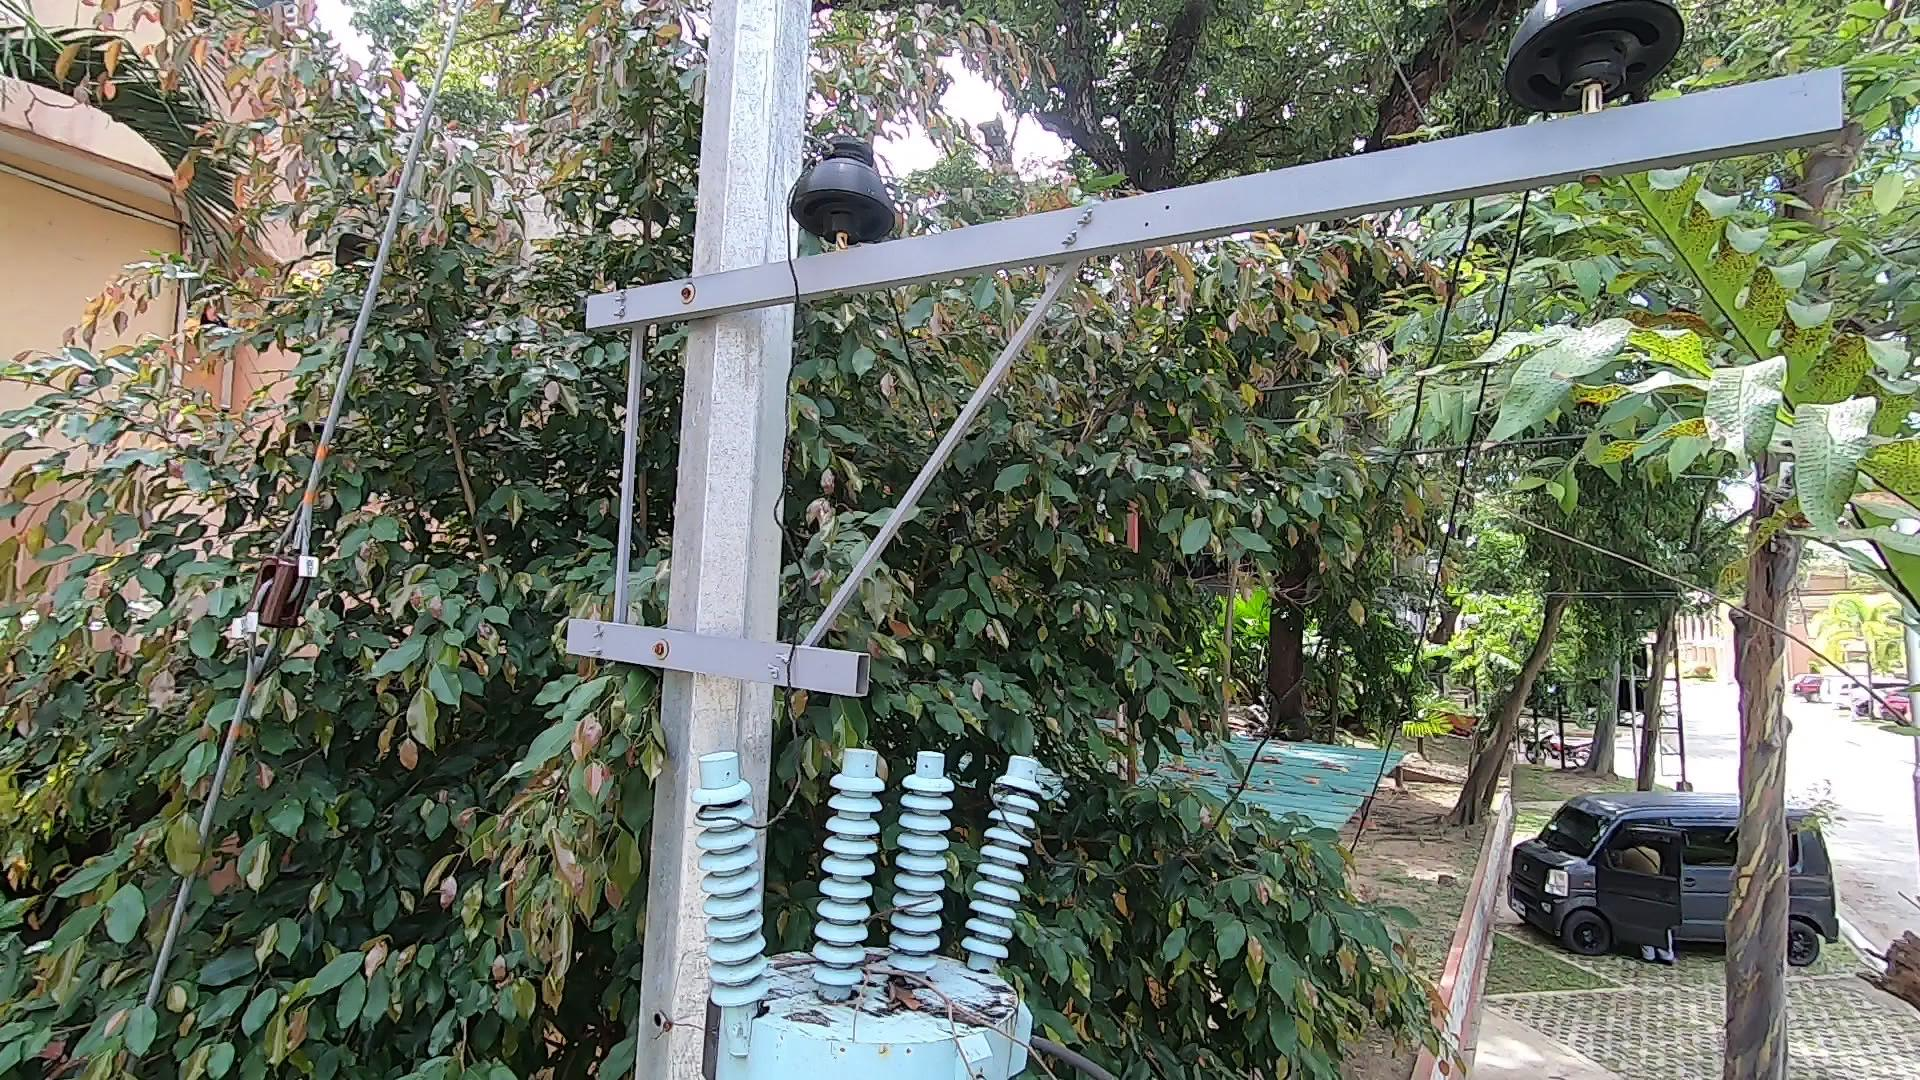leaf: (869, 964, 957, 1036)
tree branch: (761, 916, 1072, 1080)
